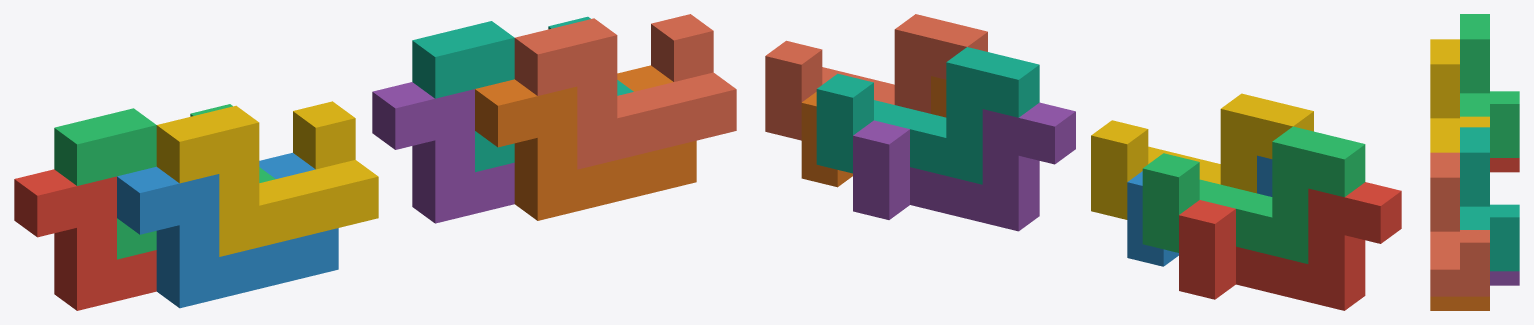
File: tiling.obj
3 views of the same model, side by side, from view 1: azimuth 30°, elevation 25°; view 2: azimuth 150°, elevation 25°; view 3: azimuth 270°, elevation 25° (orthographic). The views are drawn at different scales.
Visible parts, largest first — view 1: copy_1_domain_4, copy_1_domain_8, copy_1_domain_2, copy_1_domain_6, copy_1_domain_5, copy_1_domain_1, copy_1_domain_3, copy_1_domain_7; view 2: copy_1_domain_5, copy_1_domain_1, copy_1_domain_7, copy_1_domain_3, copy_1_domain_4, copy_1_domain_8, copy_1_domain_6, copy_1_domain_2; view 3: copy_1_domain_8, copy_1_domain_7, copy_1_domain_3, copy_1_domain_4, copy_1_domain_6, copy_1_domain_1, copy_1_domain_5.
Part boxes in pixels (x1,y1,x2,y2): copy_1_domain_4: [156, 101, 378, 256]; copy_1_domain_8: [514, 14, 736, 169]; copy_1_domain_2: [117, 152, 338, 308]; copy_1_domain_6: [475, 65, 696, 220]; copy_1_domain_5: [372, 82, 514, 223]; copy_1_domain_1: [14, 169, 156, 310]; copy_1_domain_3: [54, 104, 275, 259]; copy_1_domain_7: [412, 16, 633, 172]; copy_1_domain_5: [853, 102, 1075, 231]; copy_1_domain_1: [1179, 182, 1401, 310]; copy_1_domain_7: [816, 47, 1039, 184]; copy_1_domain_3: [1142, 126, 1365, 263]; copy_1_domain_4: [1091, 93, 1313, 219]; copy_1_domain_8: [765, 14, 987, 140]; copy_1_domain_6: [801, 76, 946, 187]; copy_1_domain_2: [1127, 155, 1272, 266]; copy_1_domain_8: [1430, 152, 1489, 296]; copy_1_domain_7: [1460, 127, 1519, 271]; copy_1_domain_3: [1460, 14, 1519, 157]; copy_1_domain_4: [1430, 39, 1489, 152]; copy_1_domain_6: [1430, 296, 1489, 310]; copy_1_domain_1: [1490, 158, 1519, 172]; copy_1_domain_5: [1490, 271, 1519, 285].
Bounding box in the file's own units: 17 × 4 × 3.
